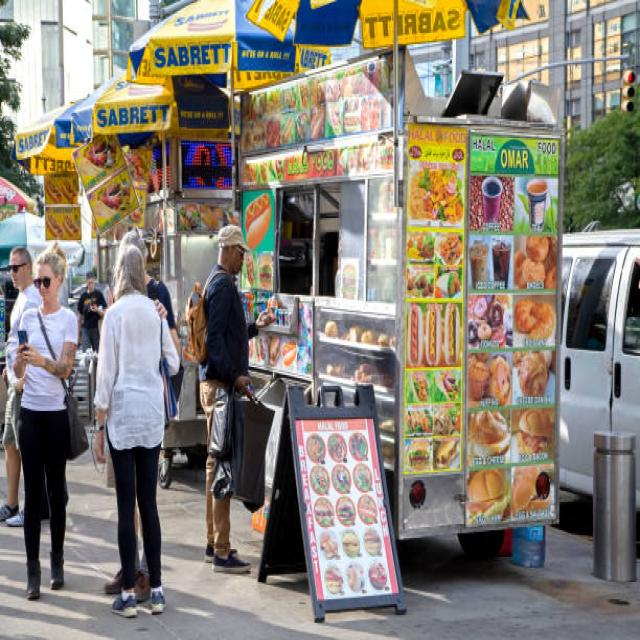Emperan: (208, 0, 584, 599)
